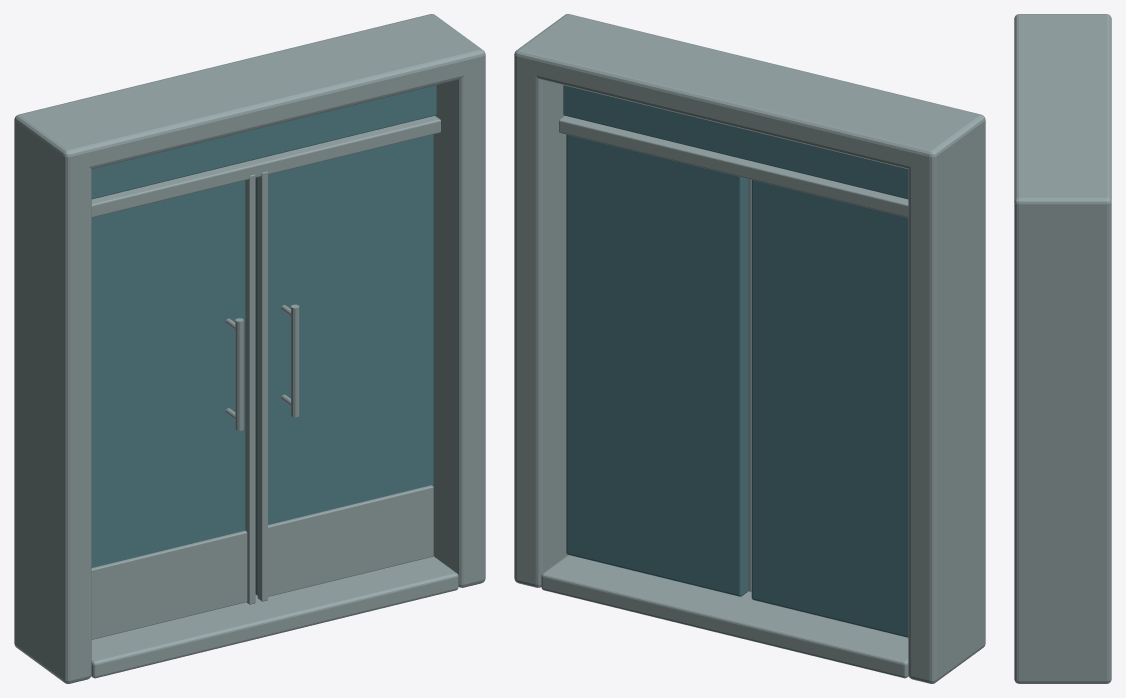
Rendered from entrance.glb.
3 renders of one model, left to right at view 1: azimuth 30°, elevation 25°; view 2: azimuth 150°, elevation 25°; view 3: azimuth 270°, elevation 25°, orthographic. The views are drawn at different scales.
Parts seen in each view (by area): view 1: door-leaf.001, door-leaf, frame-post, frame-header, frame-post.001, threshold, kick-plate.001, kick-plate, transom-glazing, transom, door-stile.001, door-stile (+2 smaller); view 2: door-leaf.001, door-leaf, frame-post, frame-header, frame-post.001, threshold, transom-glazing, transom, door-stile.001; view 3: frame-post.001, frame-header.
Boxes of the visible parts, left/top/right/bottom form: door-leaf.001: left=255, top=134, right=433, bottom=595; door-leaf: left=91, top=180, right=245, bottom=567; frame-post: left=14, top=110, right=91, bottom=683; frame-header: left=14, top=14, right=484, bottom=171; frame-post.001: left=412, top=14, right=485, bottom=587; threshold: left=91, top=556, right=458, bottom=678; kick-plate.001: left=268, top=485, right=433, bottom=596; kick-plate: left=91, top=530, right=247, bottom=639; transom-glazing: left=91, top=85, right=436, bottom=199; transom: left=91, top=116, right=440, bottom=217; door-stile.001: left=257, top=171, right=267, bottom=601; door-stile: left=245, top=174, right=255, bottom=604; door-leaf.001: left=566, top=134, right=748, bottom=596; door-leaf: left=751, top=180, right=908, bottom=637; frame-post: left=908, top=110, right=985, bottom=683; frame-header: left=515, top=14, right=984, bottom=171; frame-post.001: left=514, top=14, right=587, bottom=587; threshold: left=541, top=555, right=908, bottom=678; transom-glazing: left=563, top=85, right=908, bottom=199; transom: left=559, top=116, right=908, bottom=217; door-stile.001: left=748, top=179, right=751, bottom=591; frame-post.001: left=1014, top=190, right=1111, bottom=683; frame-header: left=1014, top=14, right=1111, bottom=217.
Bounding box in the file's own units: 1.82 × 2.2 × 0.4.
